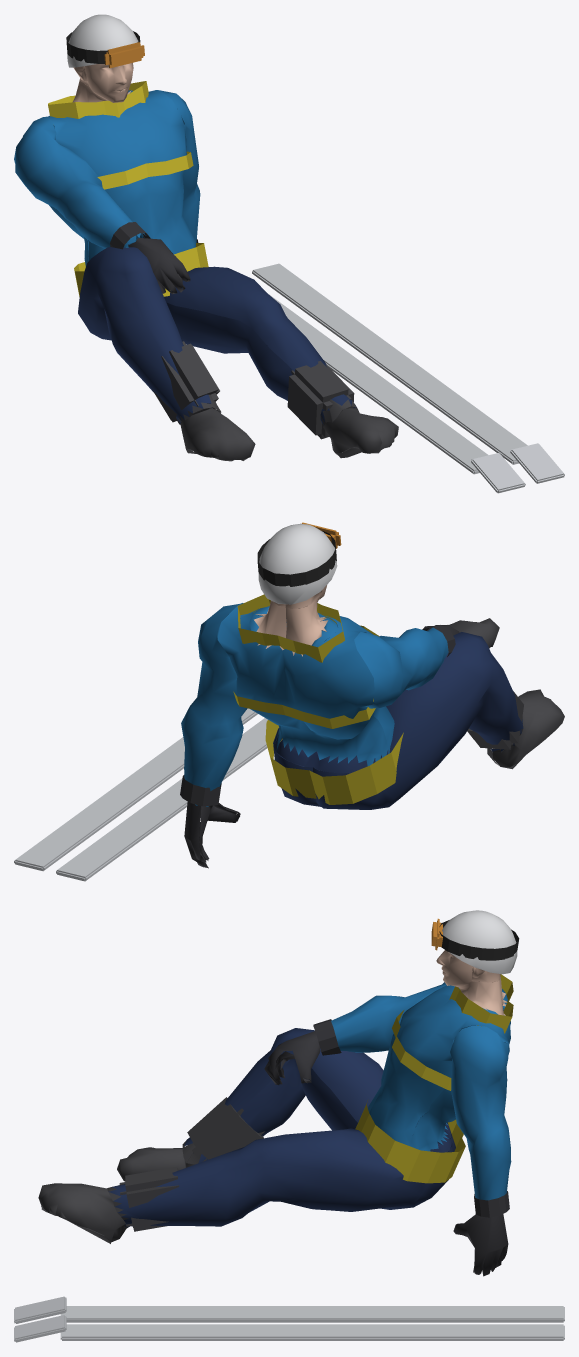
The model's file is skier-sitting.glb.
3 renders of one model, top to bottom at view 1: azimuth 30°, elevation 25°; view 2: azimuth 150°, elevation 25°; view 3: azimuth 270°, elevation 25°, orthographic. The views are drawn at different scales.
Visible parts, largest first — view 1: skier-sitting; view 2: skier-sitting; view 3: skier-sitting.
Part boxes in pixels (x1=…): skier-sitting: x1=14, y1=14, x2=564, y2=493; skier-sitting: x1=14, y1=522, x2=564, y2=881; skier-sitting: x1=14, y1=910, x2=564, y2=1342.
Size of the model in its own units: 1.04 by 1.07 by 1.64.
